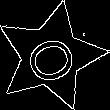O_NE: (18, 27, 84, 86)
